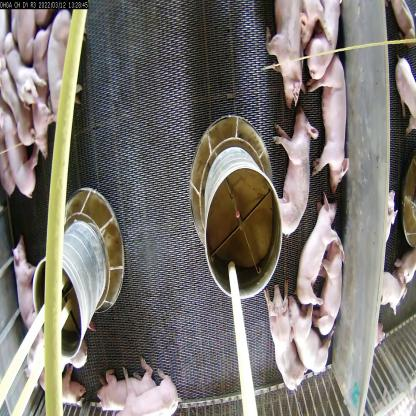Pig: (307, 51, 357, 195), (269, 99, 315, 240), (293, 181, 341, 313), (259, 274, 308, 400), (47, 8, 90, 129), (283, 290, 338, 384), (266, 0, 303, 115), (114, 357, 184, 416), (93, 350, 159, 412), (7, 227, 42, 330), (1, 22, 43, 101), (319, 232, 349, 340)
